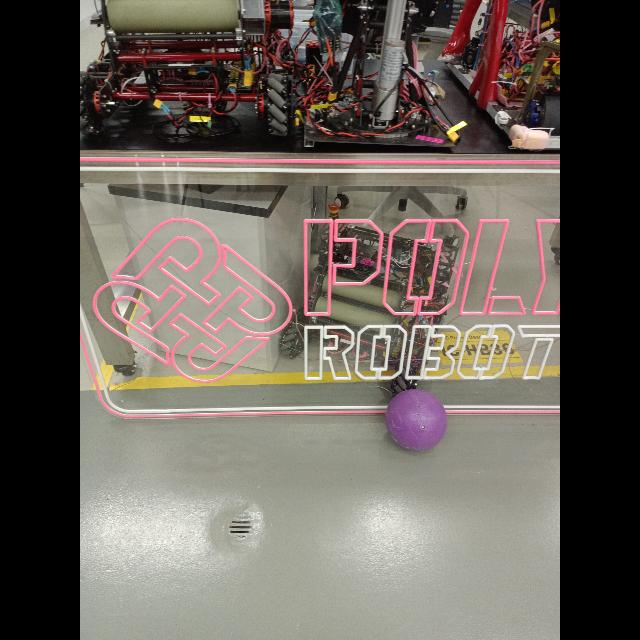P: (384, 389, 446, 451)
